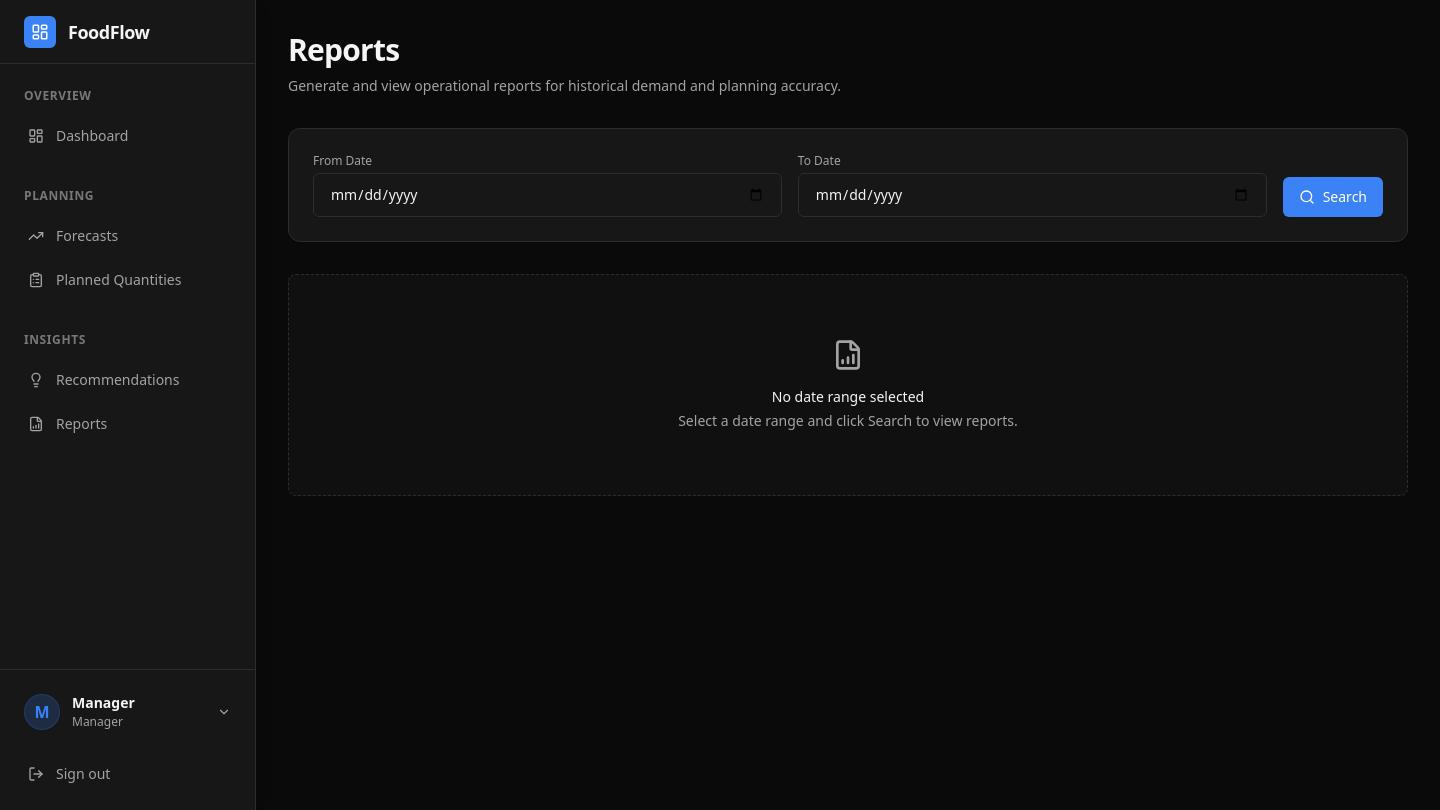
Scenario: ReportsPage › performs search and displays results
This screenshot has width=1440, height=810.
Note: Fill form
In the date field labelled "From Date": (547, 195) [313,173,782,217], type "2026-10-01"
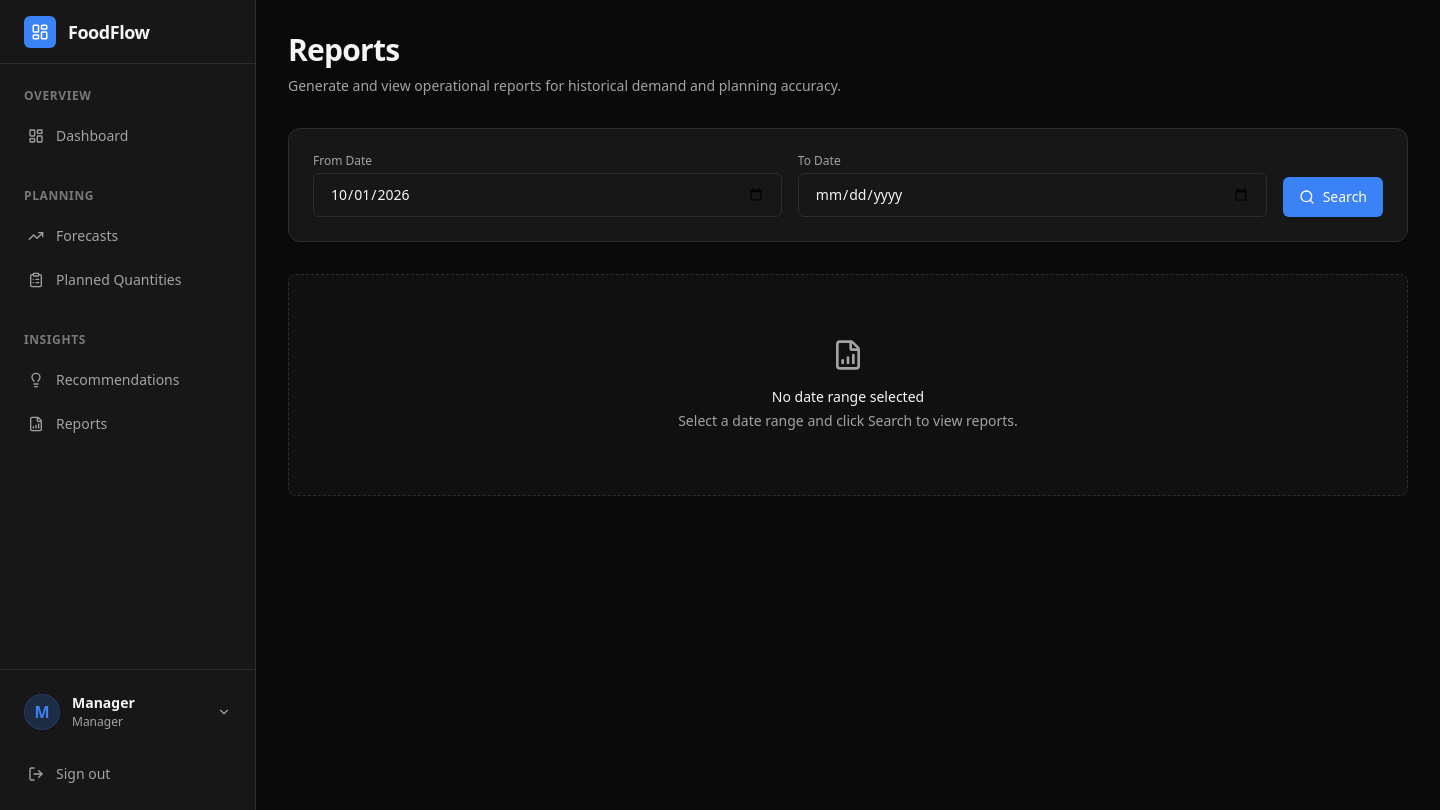
In the date field labelled "To Date": (1032, 195) [798,173,1267,217], type "2026-10-31"
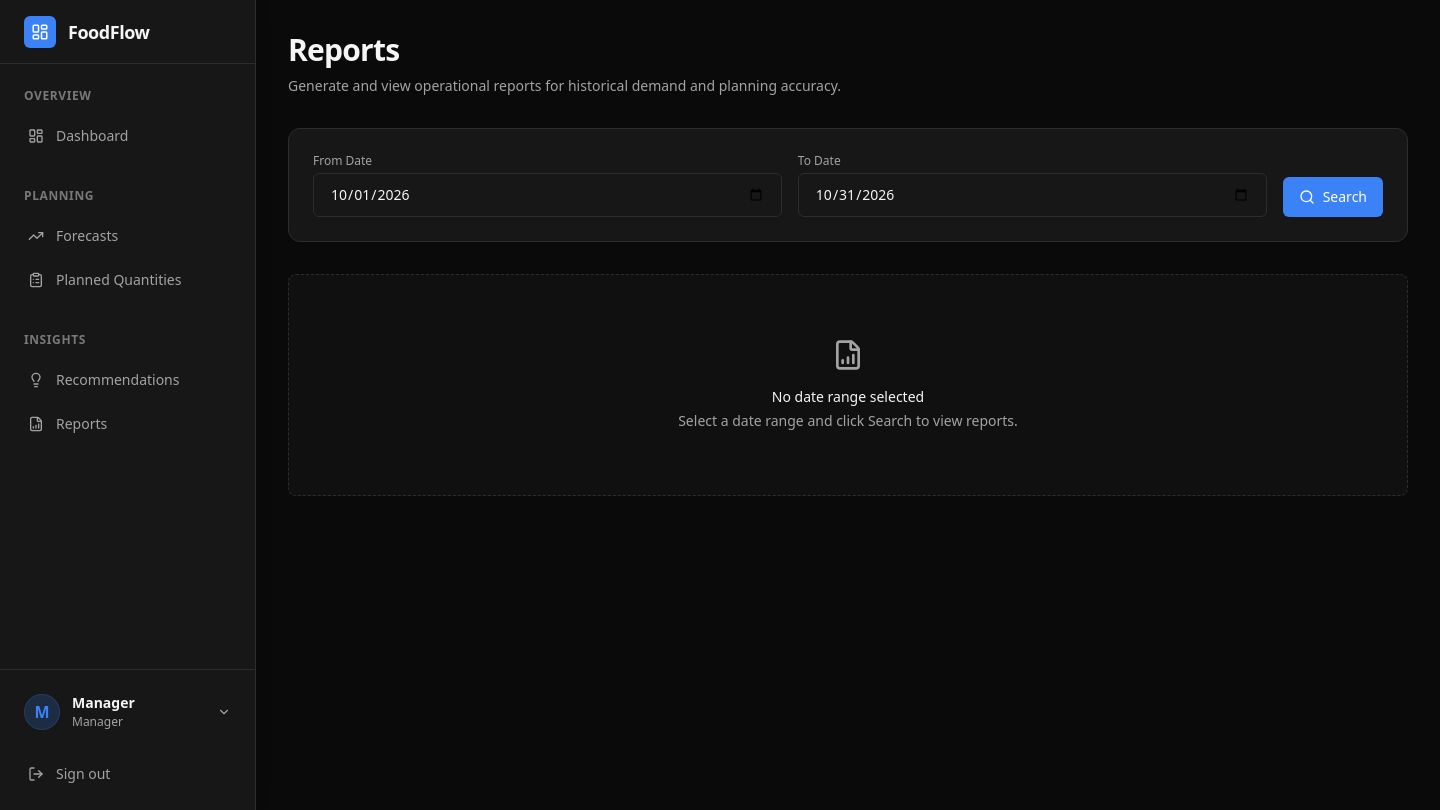
Submit the text "Search", box [313,153,1383,217]
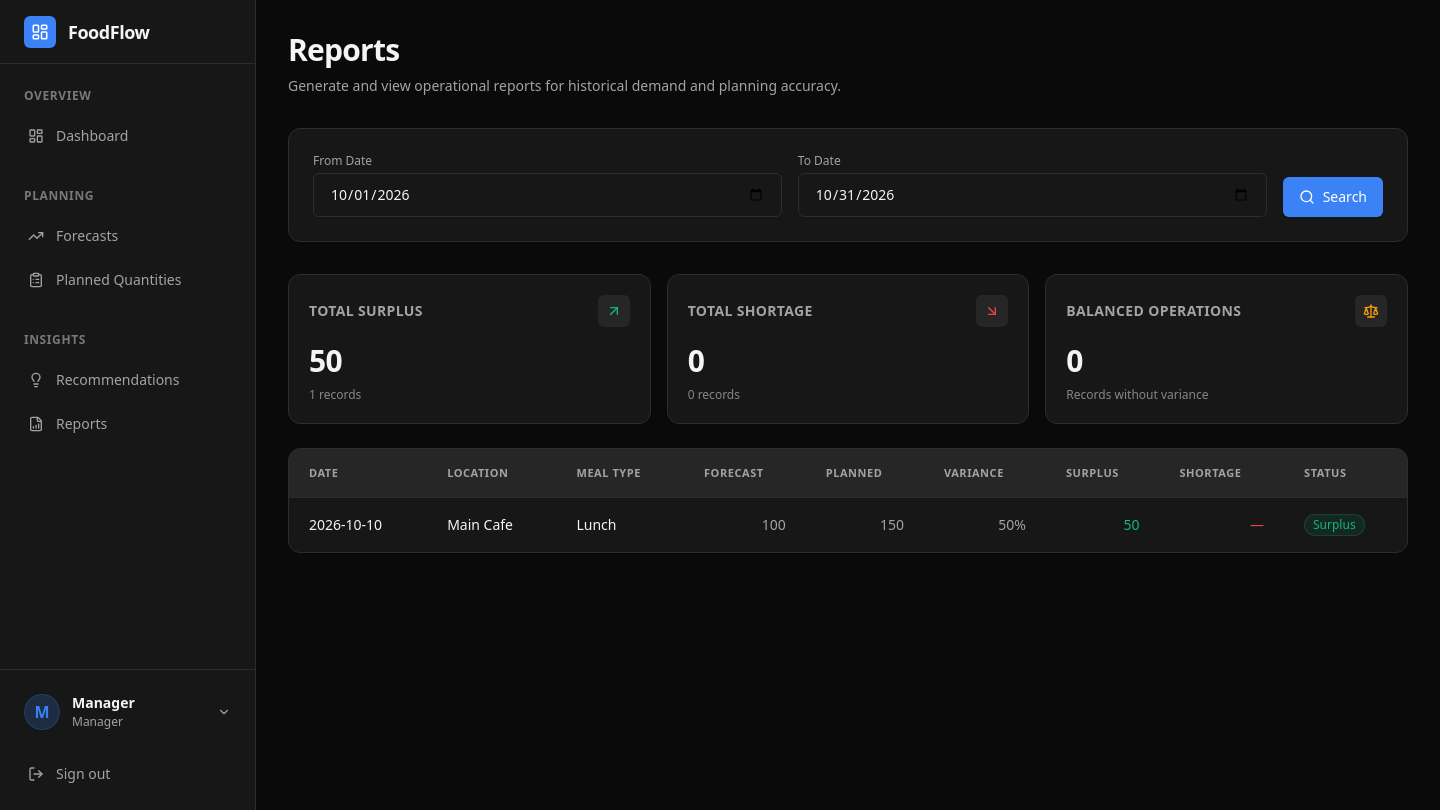
Expected: the text "Main Cafe" is shown, [427,498,556,552]
Expected: the text "Lunch" is shown, [556,498,684,552]
